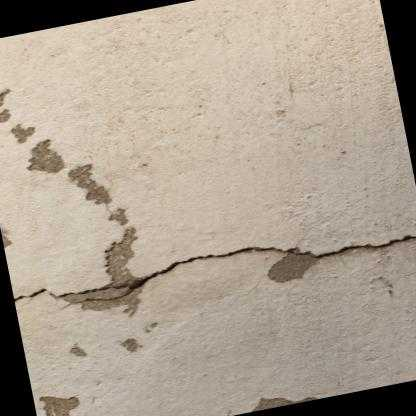crack: (13, 234, 416, 301)
